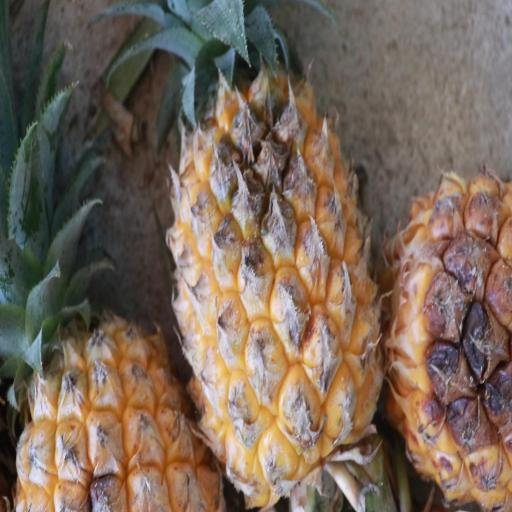Pineapple - v8 v1: (163, 42, 382, 512), (12, 141, 227, 512), (388, 151, 512, 512)
